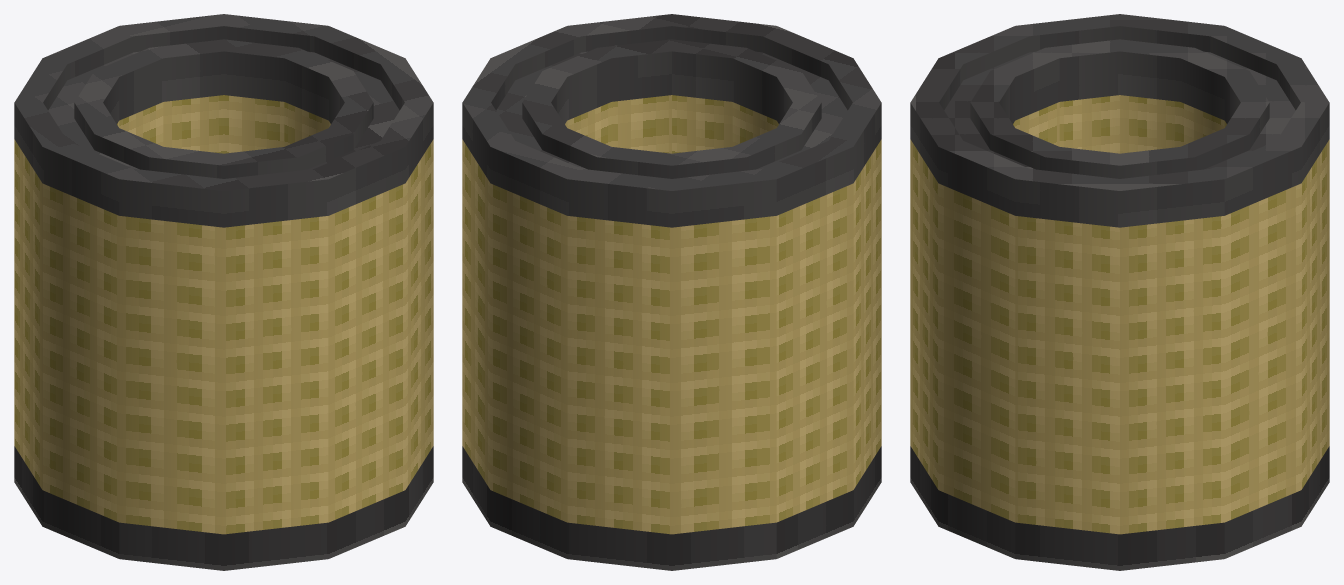
File: filter.glb
The picture shows the model from 3 angles, left to right: view 1: azimuth 30°, elevation 25°; view 2: azimuth 150°, elevation 25°; view 3: azimuth 270°, elevation 25°; orthographic projection.
Parts seen in each view (by area): view 1: Cylinder; view 2: Cylinder; view 3: Cylinder.
Boxes of the visible parts, x1,y1,x2,y2 form: Cylinder: (14,14,433,570); Cylinder: (462,14,881,570); Cylinder: (910,14,1329,570).
Size of the model in its own units: 0.5019 by 0.5019 by 0.5019.
2 materials, 2 textured.
